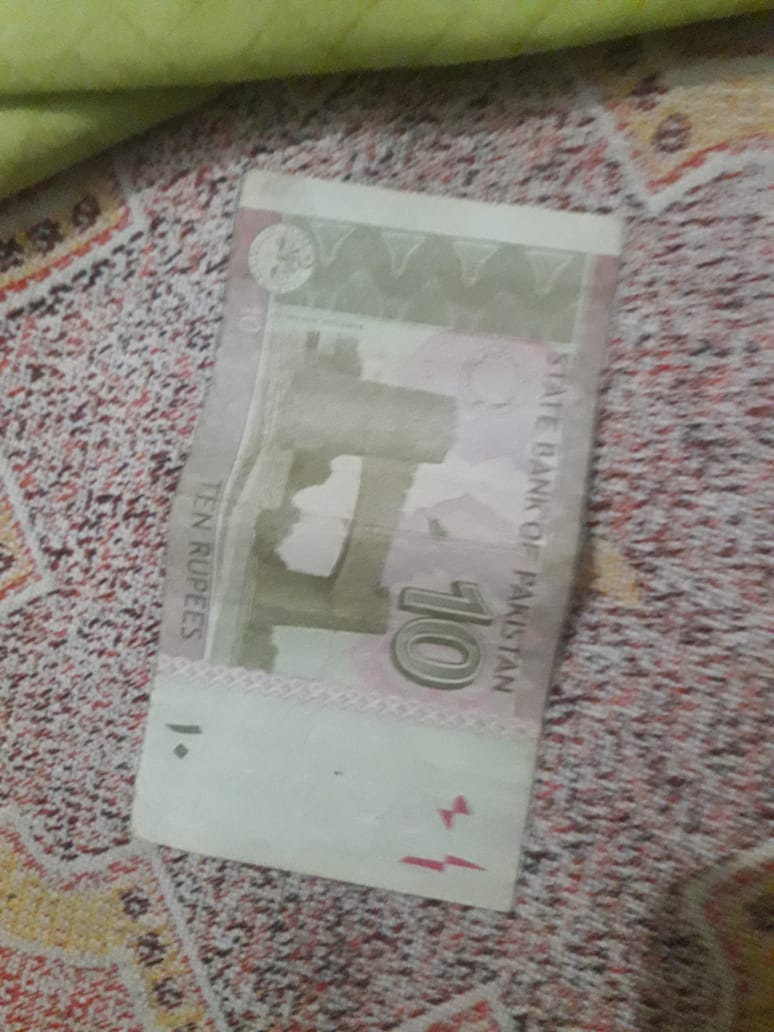10 rupee: (121, 134, 629, 990)
